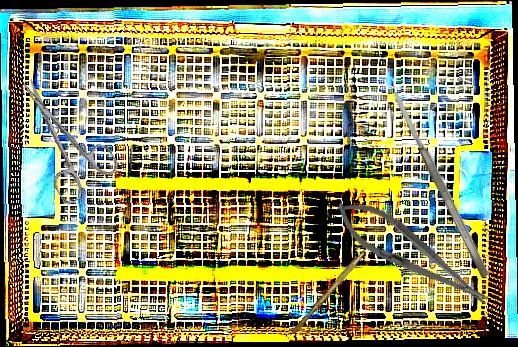Iris Scissors: (0, 62, 124, 207)
Needle Holder: (326, 187, 498, 321)
Scalpel Handle: (290, 247, 367, 337)
Spatula Surgical: (390, 89, 491, 279)
